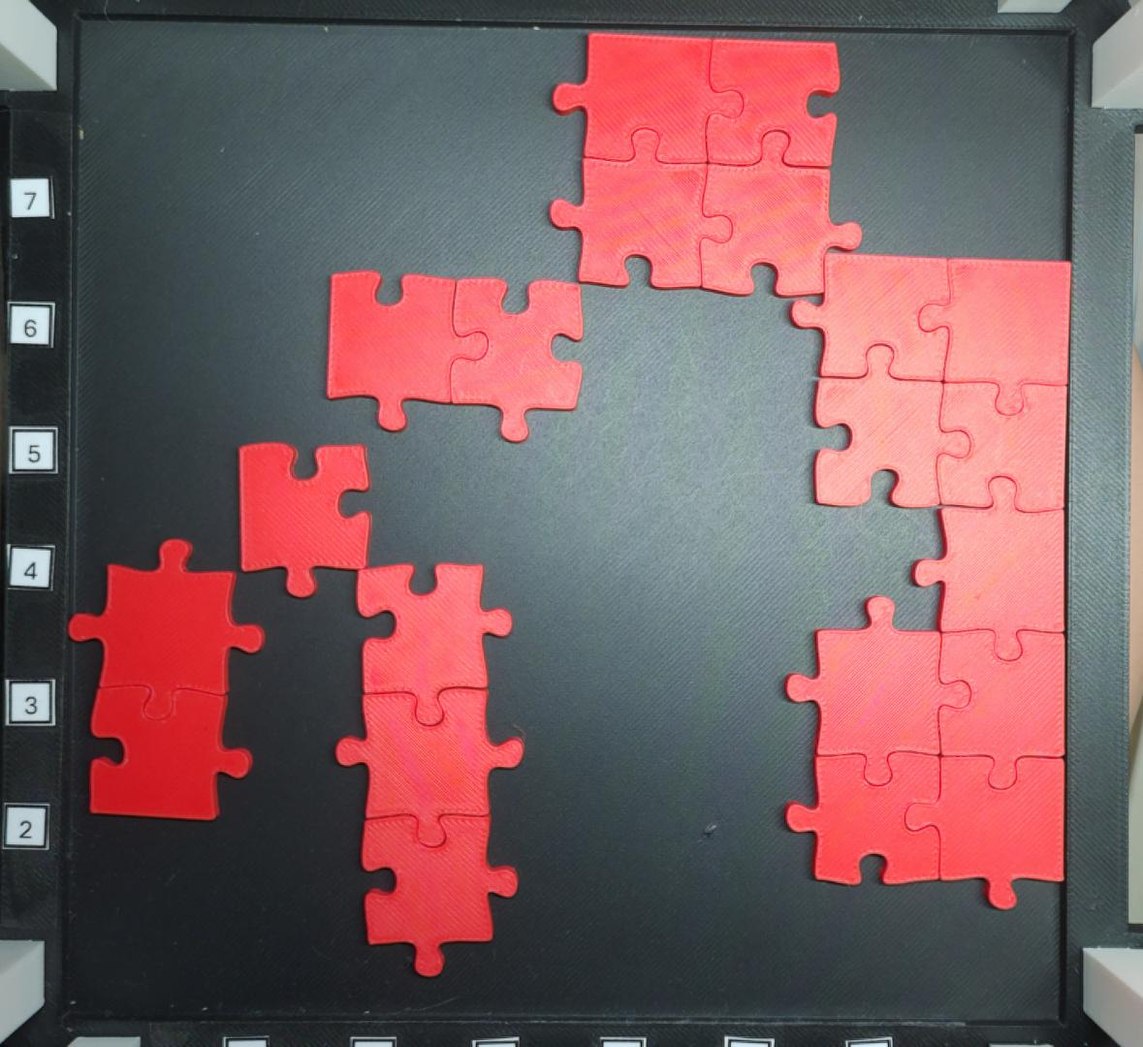p_1: (237, 440, 371, 598)
p_2: (67, 538, 264, 819), (324, 269, 584, 442)
p_3: (336, 563, 523, 975)
p_4: (549, 31, 862, 300)
p_m: (782, 253, 1073, 910)
